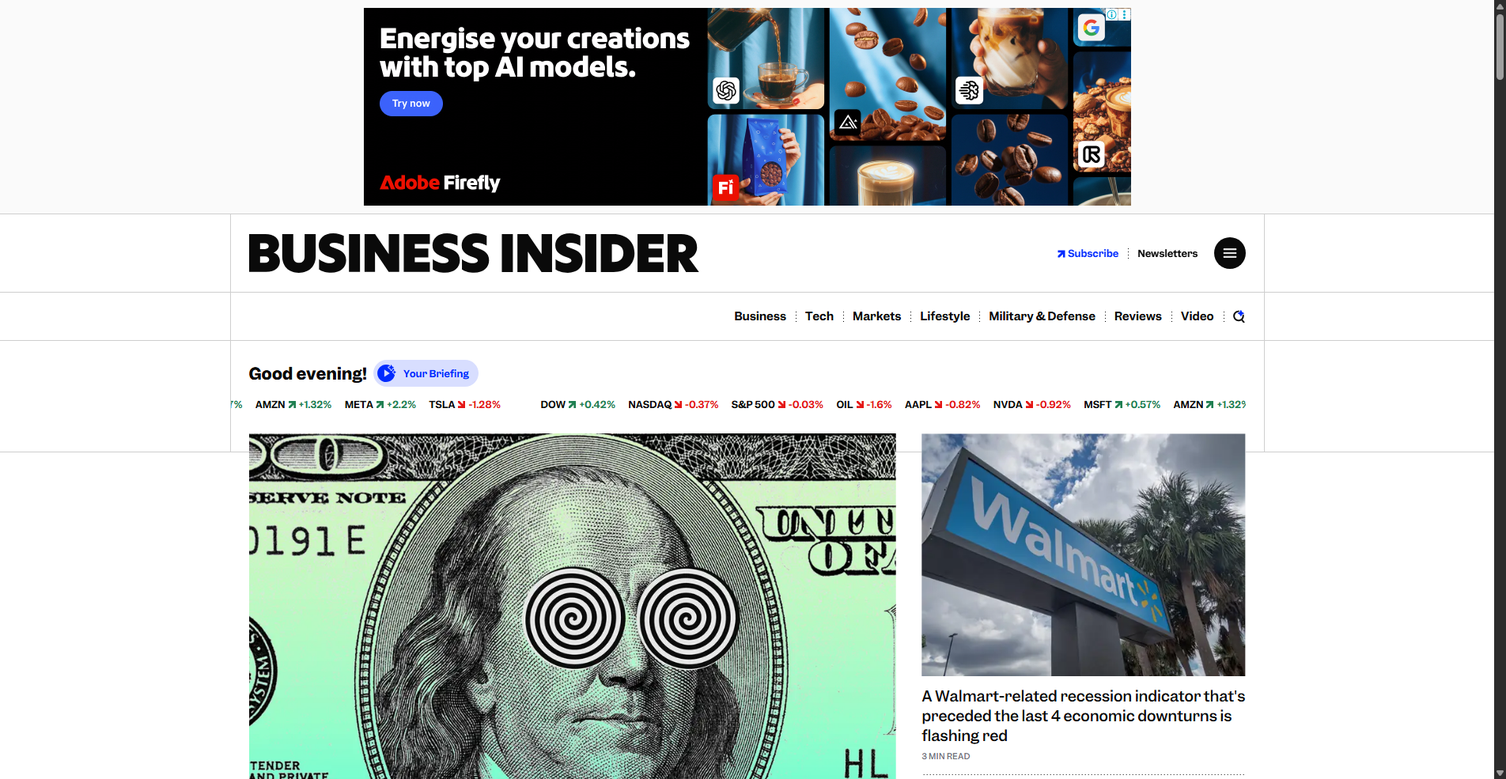button: (373, 360, 478, 387), (1214, 237, 1245, 269)
dropdown: (725, 340, 867, 665), (1171, 340, 1294, 613), (1105, 340, 1181, 587), (911, 340, 1007, 535), (796, 340, 895, 509), (843, 340, 933, 509), (979, 340, 1105, 379), (737, 379, 855, 393), (737, 405, 855, 419), (737, 431, 855, 445), (737, 457, 855, 471), (737, 354, 855, 367), (737, 483, 855, 496), (737, 509, 855, 522), (737, 535, 855, 548), (737, 561, 855, 574), (737, 587, 855, 600), (737, 613, 855, 626), (737, 639, 855, 652), (1184, 379, 1281, 393), (1184, 405, 1281, 419), (1184, 431, 1281, 445), (1184, 457, 1281, 471), (992, 354, 1092, 367), (1184, 354, 1281, 367), (1184, 483, 1281, 496), (1184, 509, 1281, 522), (1184, 535, 1281, 548), (1184, 561, 1281, 574), (1184, 587, 1281, 600), (808, 379, 883, 393), (808, 405, 883, 419), (808, 431, 883, 445), (808, 457, 883, 471), (923, 379, 995, 393), (923, 405, 995, 419), (923, 431, 995, 445), (923, 457, 995, 471), (808, 354, 883, 367), (808, 483, 883, 496), (923, 354, 995, 367), (923, 483, 995, 496), (923, 509, 995, 522), (856, 379, 921, 393), (856, 405, 921, 419), (856, 431, 921, 445), (856, 457, 921, 471), (856, 354, 921, 367), (856, 483, 921, 496), (1117, 379, 1169, 393), (1117, 405, 1169, 419), (1117, 431, 1169, 445), (1117, 457, 1169, 471), (1117, 354, 1169, 367), (1117, 483, 1169, 496), (1117, 509, 1169, 522), (1117, 535, 1169, 548), (1117, 561, 1169, 574)
link: (249, 433, 896, 779), (922, 433, 1245, 676), (922, 686, 1245, 745), (249, 233, 699, 273), (979, 293, 1105, 340), (725, 293, 796, 340), (843, 293, 911, 340), (911, 293, 979, 340), (1105, 293, 1171, 340), (1171, 293, 1223, 340), (830, 393, 935, 416), (730, 393, 833, 416), (796, 293, 843, 340), (1057, 236, 1119, 270), (193, 393, 284, 416), (1083, 393, 1174, 416), (280, 393, 370, 416), (1257, 393, 1347, 416), (107, 393, 196, 416), (367, 393, 456, 416), (997, 393, 1086, 416), (1171, 393, 1260, 416), (1138, 236, 1198, 270), (645, 393, 732, 416), (453, 393, 538, 416), (535, 393, 620, 416), (1343, 393, 1428, 416), (1425, 393, 1506, 416), (737, 379, 855, 393), (737, 405, 855, 419), (737, 431, 855, 445), (737, 457, 855, 471), (41, 393, 110, 416), (932, 393, 1000, 416), (737, 354, 855, 367), (737, 483, 855, 496), (737, 509, 855, 522), (737, 535, 855, 548), (737, 561, 855, 574), (737, 587, 855, 600), (737, 613, 855, 626), (737, 639, 855, 652), (1184, 379, 1281, 393), (1184, 405, 1281, 419), (1184, 431, 1281, 445), (1184, 457, 1281, 471), (992, 354, 1092, 367), (1184, 354, 1281, 367), (1184, 483, 1281, 496), (1184, 509, 1281, 522), (1184, 535, 1281, 548), (1184, 561, 1281, 574), (1184, 587, 1281, 600), (808, 379, 883, 393), (808, 405, 883, 419), (808, 431, 883, 445), (808, 457, 883, 471), (0, 393, 44, 416), (923, 379, 995, 393), (923, 405, 995, 419), (923, 431, 995, 445), (923, 457, 995, 471), (808, 354, 883, 367), (808, 483, 883, 496), (923, 354, 995, 367), (923, 483, 995, 496), (923, 509, 995, 522), (856, 379, 921, 393), (856, 405, 921, 419), (856, 431, 921, 445), (856, 457, 921, 471), (856, 354, 921, 367), (856, 483, 921, 496), (1223, 299, 1245, 334), (1117, 379, 1169, 393), (1117, 405, 1169, 419), (1117, 431, 1169, 445), (1117, 457, 1169, 471), (1117, 354, 1169, 367), (1117, 483, 1169, 496), (1117, 509, 1169, 522), (1117, 535, 1169, 548), (1117, 561, 1169, 574)
